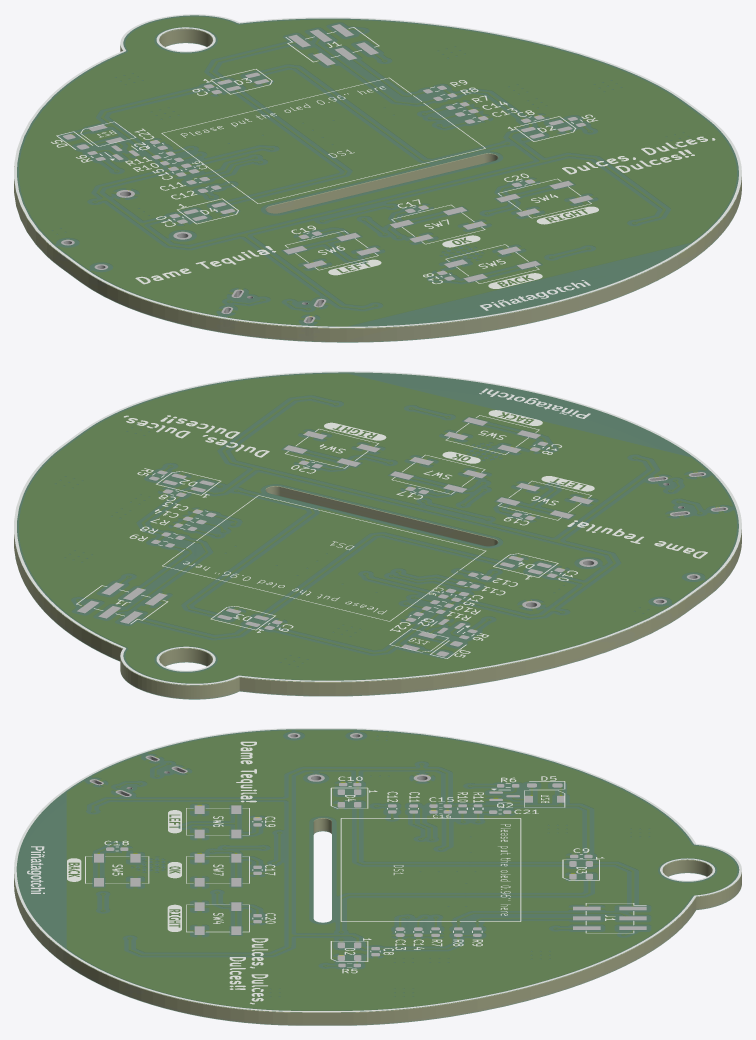
Rendered from hackgdl-2025-minino-badge.glb.
3 renders of one model, top to bottom at view 1: azimuth 30°, elevation 25°; view 2: azimuth 150°, elevation 25°; view 3: azimuth 270°, elevation 25°, orthographic. The views are drawn at different scales.
Visible parts, largest first — view 1: =>[0:1:1:7], =>[0:1:1:2], =>[0:1:1:9], =>[0:1:1:5]; view 2: =>[0:1:1:7], =>[0:1:1:2], =>[0:1:1:9], =>[0:1:1:5]; view 3: =>[0:1:1:7], =>[0:1:1:2], =>[0:1:1:9], =>[0:1:1:5].
Boxes of the visible parts, x1,y1,x2,y2 form: =>[0:1:1:7]: (15, 15, 741, 342); =>[0:1:1:2]: (19, 17, 736, 325); =>[0:1:1:9]: (14, 16, 741, 341); =>[0:1:1:5]: (14, 14, 741, 342); =>[0:1:1:7]: (14, 372, 741, 699); =>[0:1:1:2]: (19, 374, 736, 682); =>[0:1:1:9]: (14, 373, 741, 698); =>[0:1:1:5]: (14, 371, 741, 699); =>[0:1:1:7]: (14, 729, 741, 1025); =>[0:1:1:2]: (67, 731, 736, 1010); =>[0:1:1:9]: (14, 730, 741, 1025); =>[0:1:1:5]: (14, 728, 741, 1025).
Bounding box in the file's own units: 0.0734 × 0.00166 × 0.0795.
4 materials, 4 textured.
